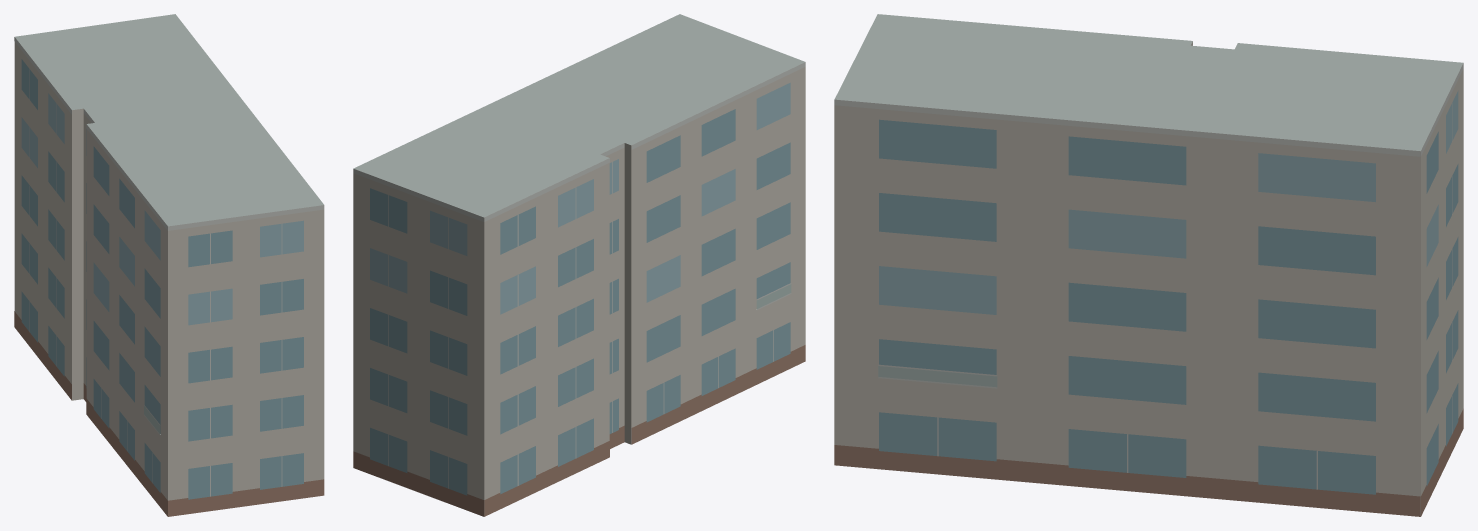
File: survey-upis-32620001.glb
The picture shows the model from 3 angles, left to right: view 1: azimuth 30°, elevation 25°; view 2: azimuth 150°, elevation 25°; view 3: azimuth 270°, elevation 25°; orthographic projection. The views are drawn at different scales.
Visible parts, largest first — view 1: survey-upis-32620001.tmp; view 2: survey-upis-32620001.tmp; view 3: survey-upis-32620001.tmp.
Part boxes in pixels (x1,y1,x2,y2): survey-upis-32620001.tmp: [14, 14, 324, 516]; survey-upis-32620001.tmp: [353, 14, 805, 516]; survey-upis-32620001.tmp: [834, 14, 1463, 516].
Size of the model in its own units: 12.72 by 15.8 by 24.65.
